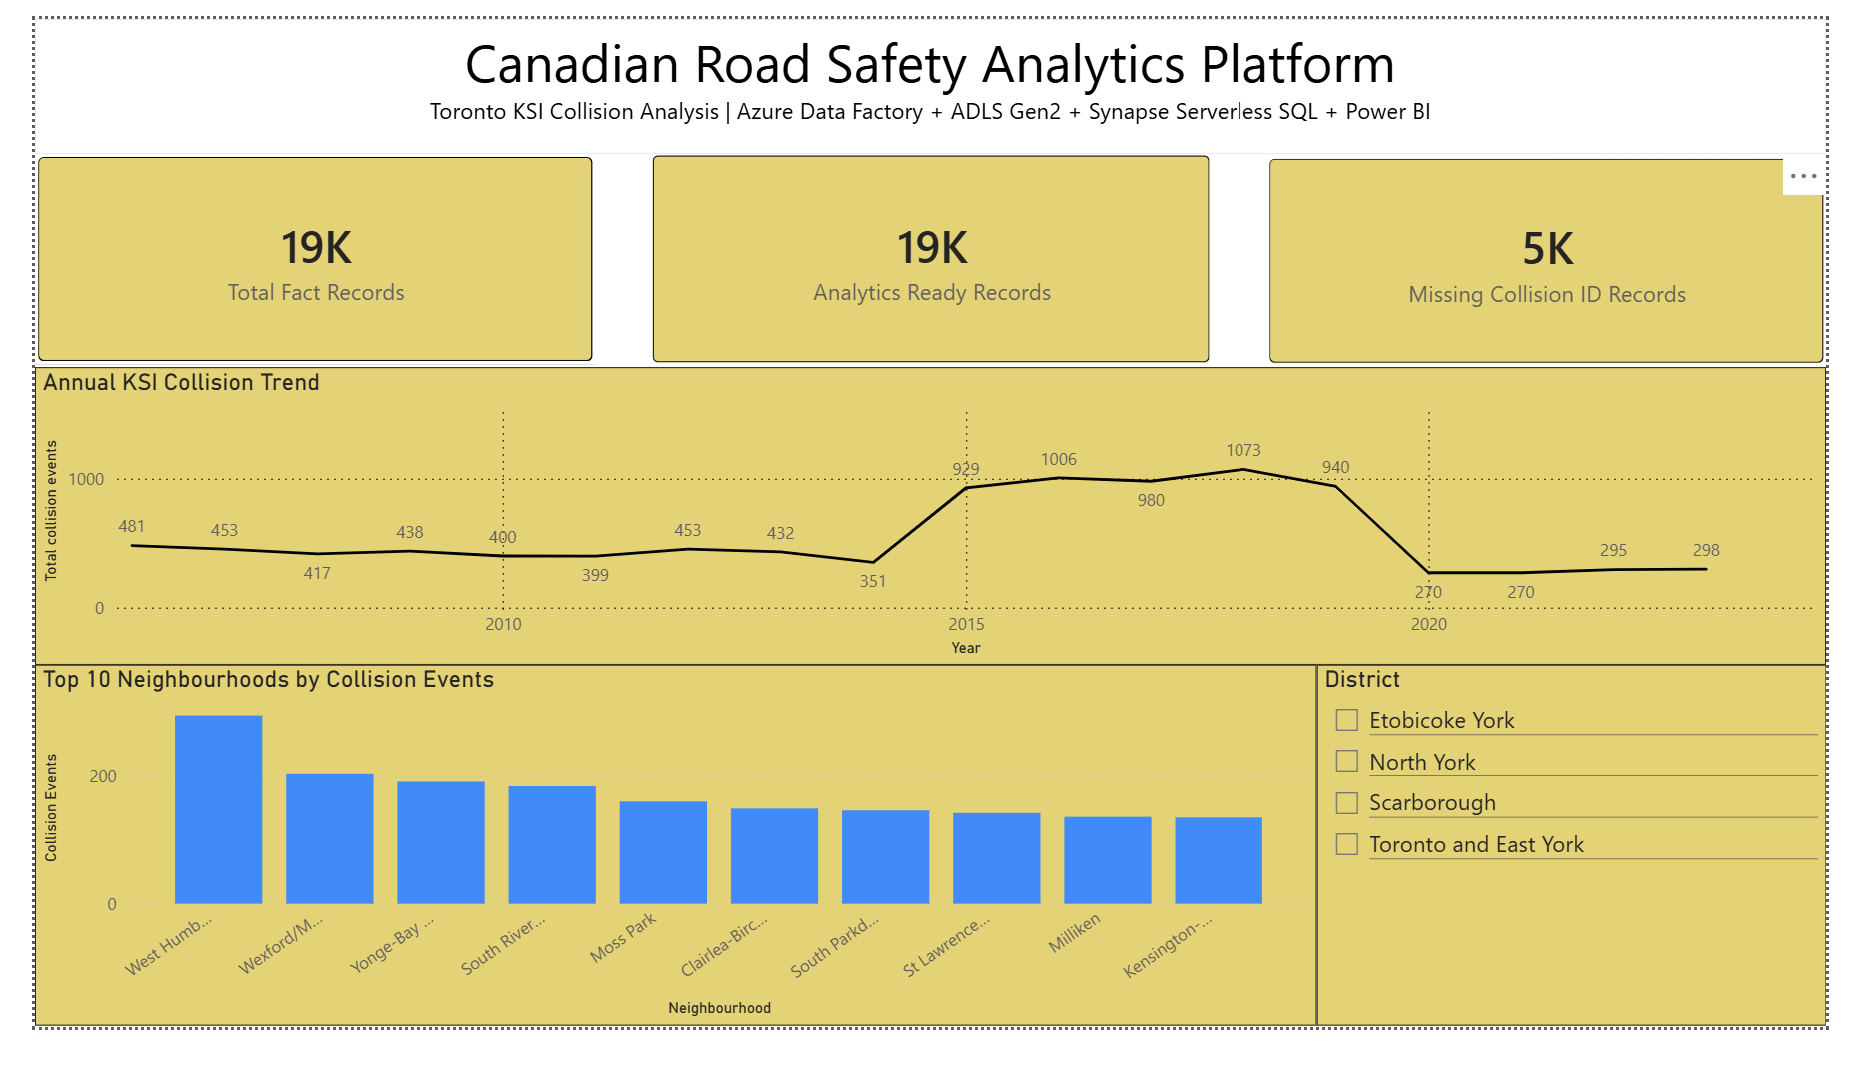

Layout of this report page (visuals, bound fields, positions):
{"tool":"powerbi","page":{"name":"Road Safety Overview","canvas":[1280,720],"ordinal":0},"visuals":[{"type":"cardVisual","fields":{"Data":["Sum(vw_rpt_data_quality_summary.total_fact_records)"]},"box":[0,96.2,400,150],"z":0},{"type":"lineChart","title":"Annual KSI Collision Trend","fields":{"Category":["vw_rpt_annual_collision_trend.collision_year"],"Y":["Sum(vw_rpt_annual_collision_trend.total_collision_events)"]},"box":[0,248.8,1280,212.5],"z":1000},{"type":"cardVisual","fields":{"Data":["Sum(vw_rpt_data_quality_summary.analytics_ready_records)"]},"box":[440,96.2,400,150],"z":2000},{"type":"clusteredColumnChart","title":"Top 10 Neighbourhoods by Collision Events","fields":{"Category":["vw_rpt_location_risk_summary.neighbourhood_158_name"],"Y":["Sum(vw_rpt_location_risk_summary.total_collision_events)"]},"box":[0,461.2,916.2,257.5],"z":3000},{"type":"cardVisual","fields":{"Data":["Sum(vw_rpt_data_quality_summary.missing_collision_id_records)"]},"box":[880,97.3,400,150],"z":4000},{"type":"slicer","title":"District","fields":{"Values":["vw_rpt_location_risk_summary.district"]},"box":[916.2,461.2,363.8,257.5],"z":5000},{"type":"textbox","box":[0,0,1279.8,96.7],"z":6000}]}

Visuals, with their boxes in screenshot pixels (x1, y1, x2, y2), scaled from the page's 1280x720 canvas onto the 1867x1072 screenshot:
cardVisual - Sum(vw_rpt_data_quality_summary.total_fact_records): bbox(0, 143, 583, 367)
"Annual KSI Collision Trend" lineChart: bbox(0, 370, 1866, 687)
cardVisual - Sum(vw_rpt_data_quality_summary.analytics_ready_records): bbox(642, 143, 1225, 367)
"Top 10 Neighbourhoods by Collision Events" clusteredColumnChart: bbox(0, 687, 1336, 1070)
cardVisual - Sum(vw_rpt_data_quality_summary.missing_collision_id_records): bbox(1284, 145, 1866, 368)
"District" slicer: bbox(1336, 687, 1866, 1070)
textbox: bbox(0, 0, 1866, 144)
